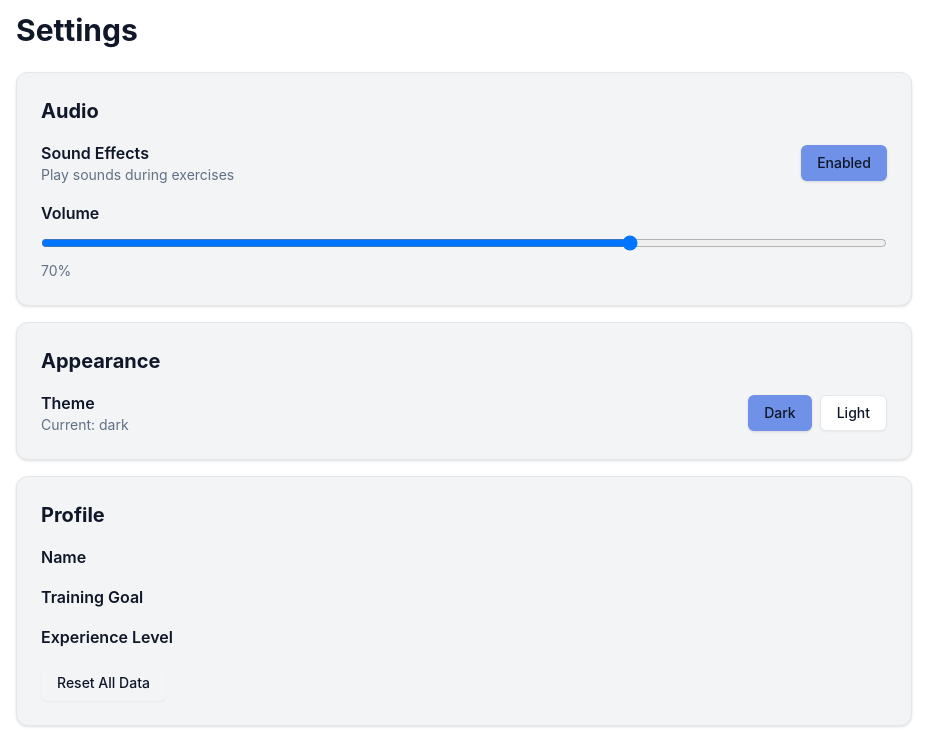
Test: SettingsPage › should disable volume slider when sound is disabled
This screenshot has width=929, height=744.
Click the button "Enabled" at [844, 163], box left=801, top=145, right=887, bottom=181
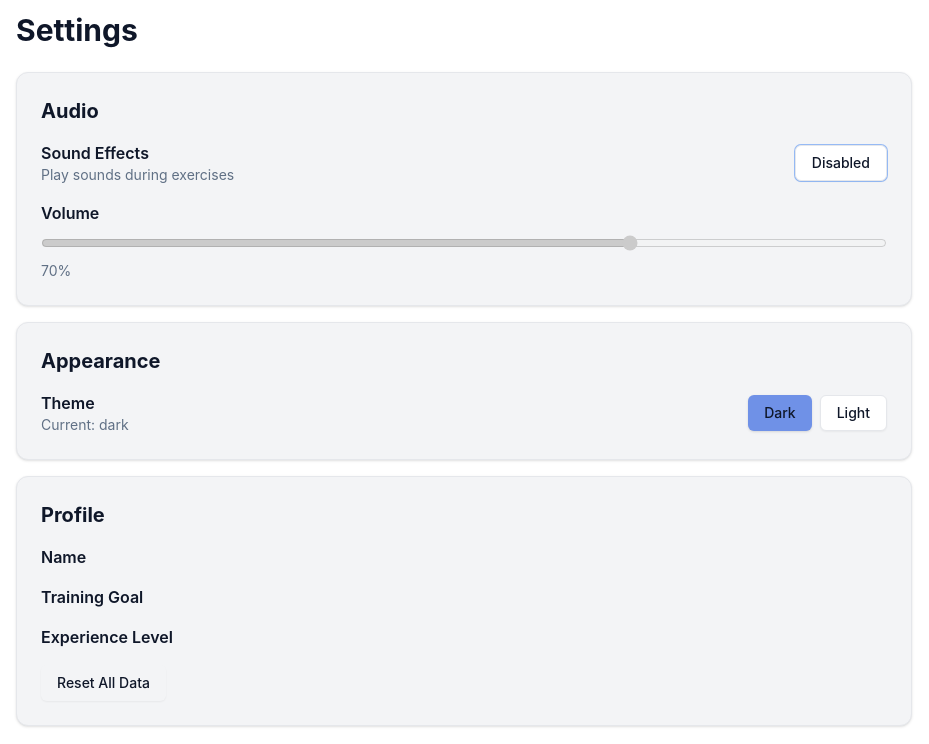
expect the slider is disabled: met, box left=41, top=235, right=887, bottom=251
